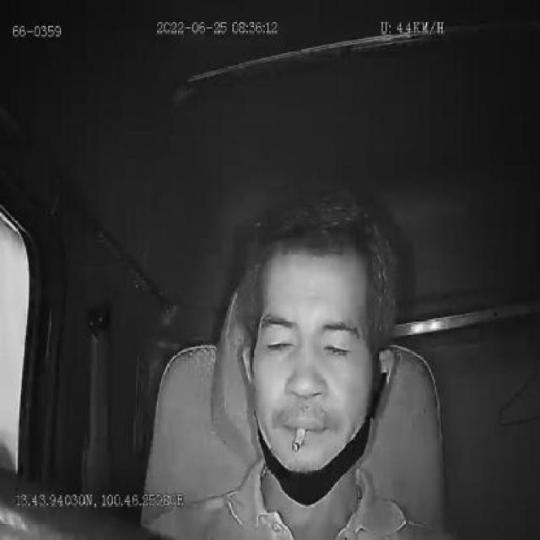smoking: (290, 426, 307, 452)
